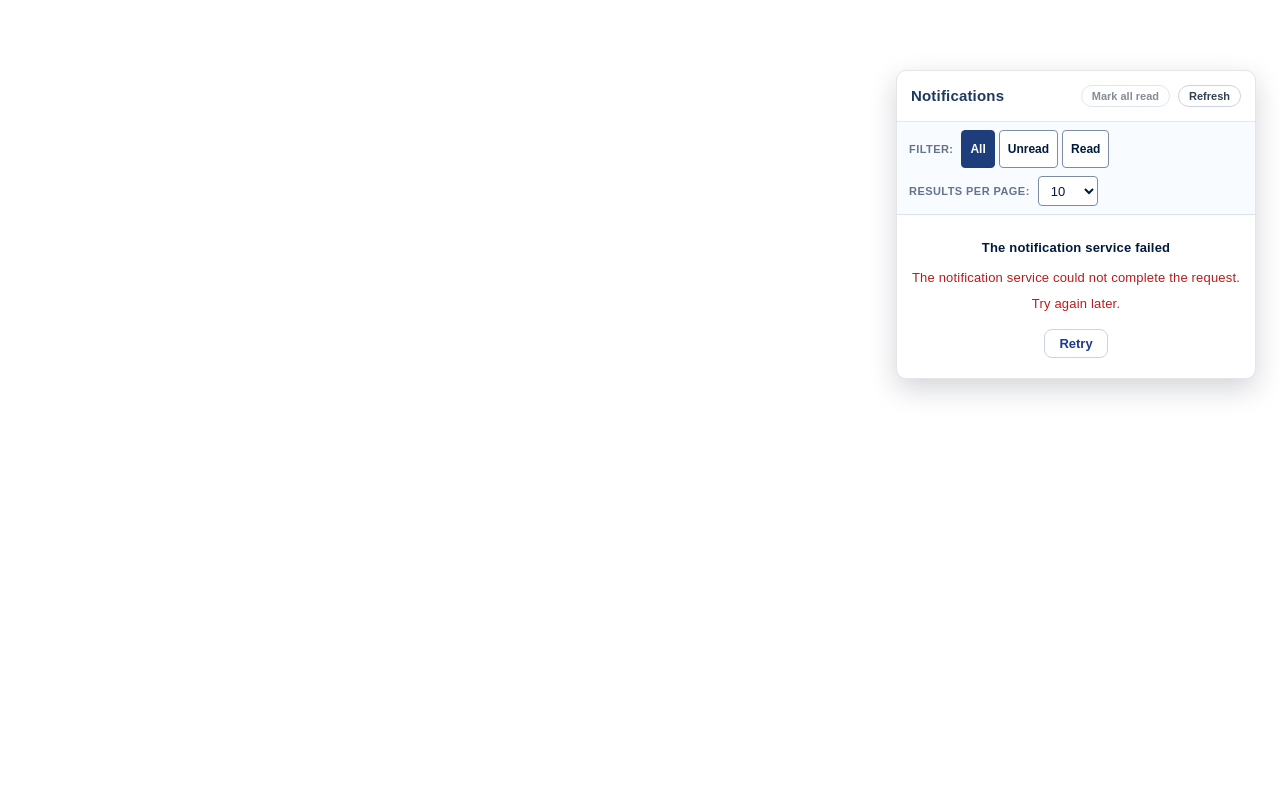
Scenario: NotificationPanel on the mock provider › surfaces a provider failure, then loads the list when the retry succeeds
The image size is (1280, 800).
Expected: the text "The notification service failed" is shown, [982,240,1170,255]
Click the button "Retry" at (1076, 344), box [1044,330,1108,358]
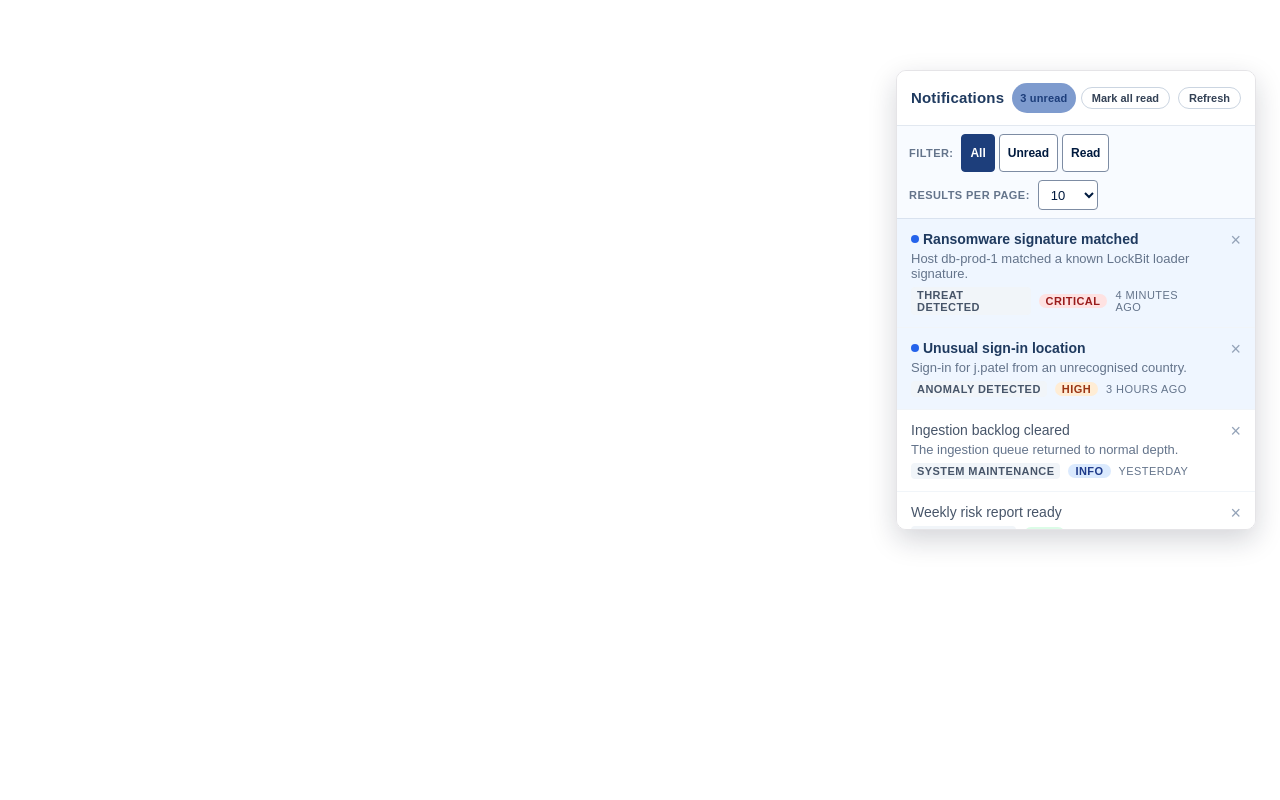
Expected: the text "The notification service failed" is gone
